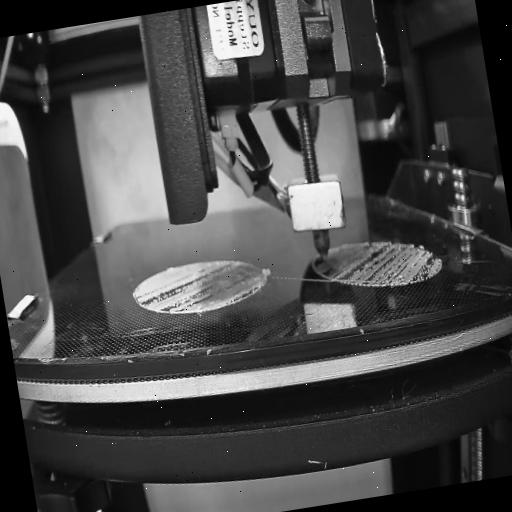under_extrusion: (132, 258, 262, 317), (329, 231, 441, 296)
